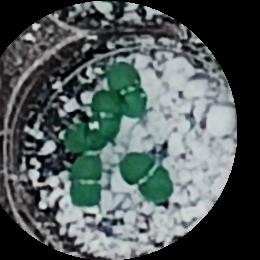Basil: (107, 62, 149, 117), (120, 156, 171, 199), (65, 121, 114, 152), (73, 157, 100, 205), (92, 96, 121, 139)
